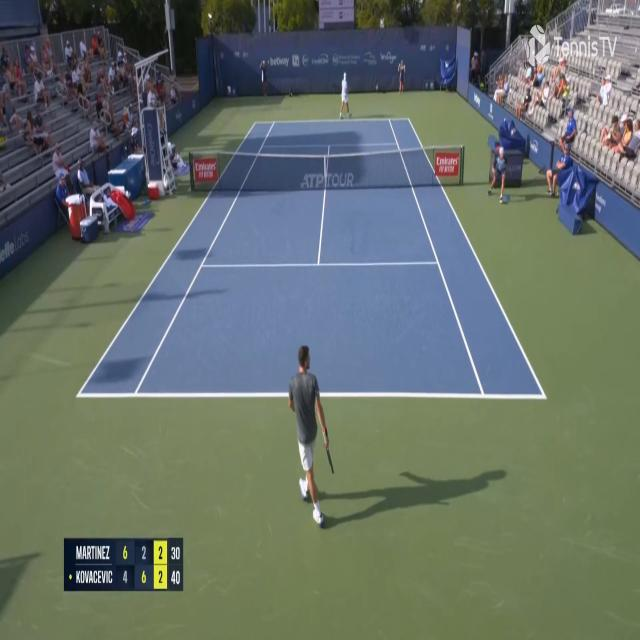tennis-player: (287, 340, 335, 526), (338, 70, 352, 121)
